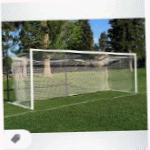goals: (9, 47, 140, 111)
